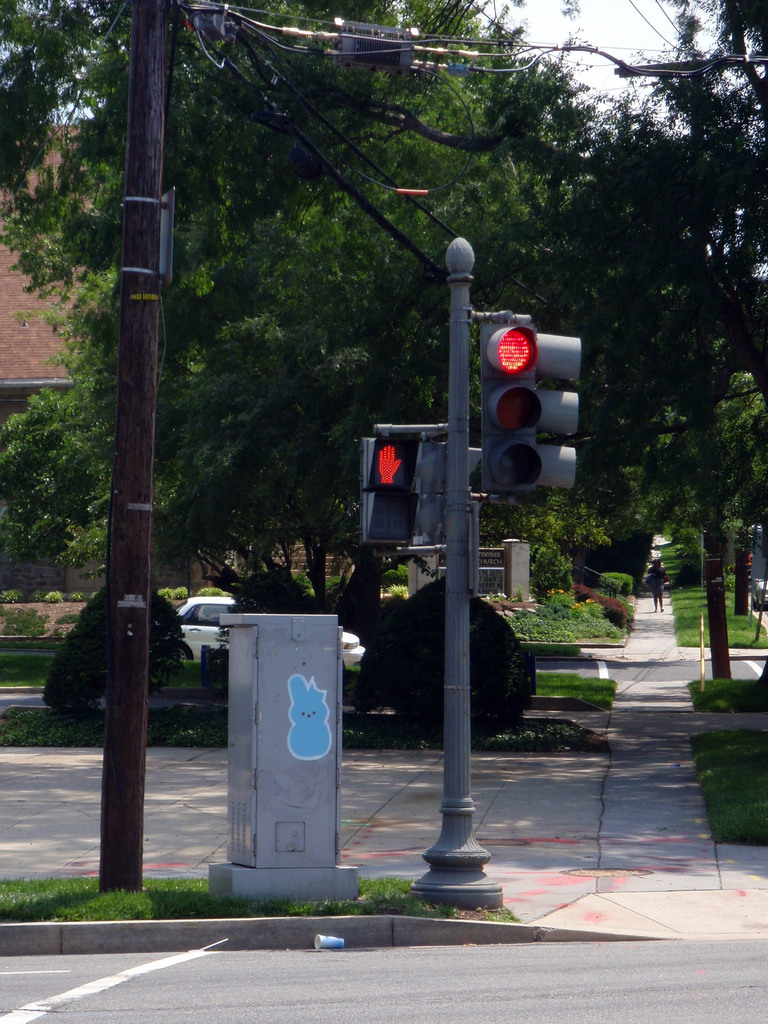red_light: (487, 328, 543, 495)
